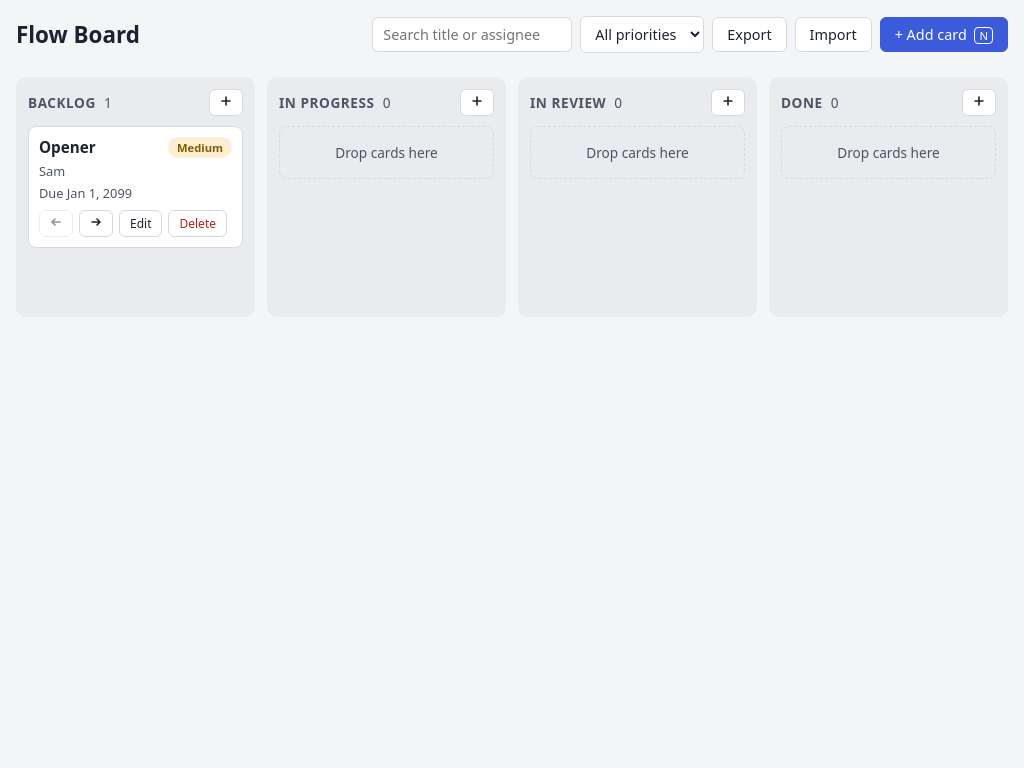
Test case: focus management (audit: WCAG 2.4.3, 2.1.2) › returns focus to the control that opened it when closed
Click the button named "Edit \"Opener\"". click: (141, 224)
box: x1=119 y1=210 x2=162 y2=237
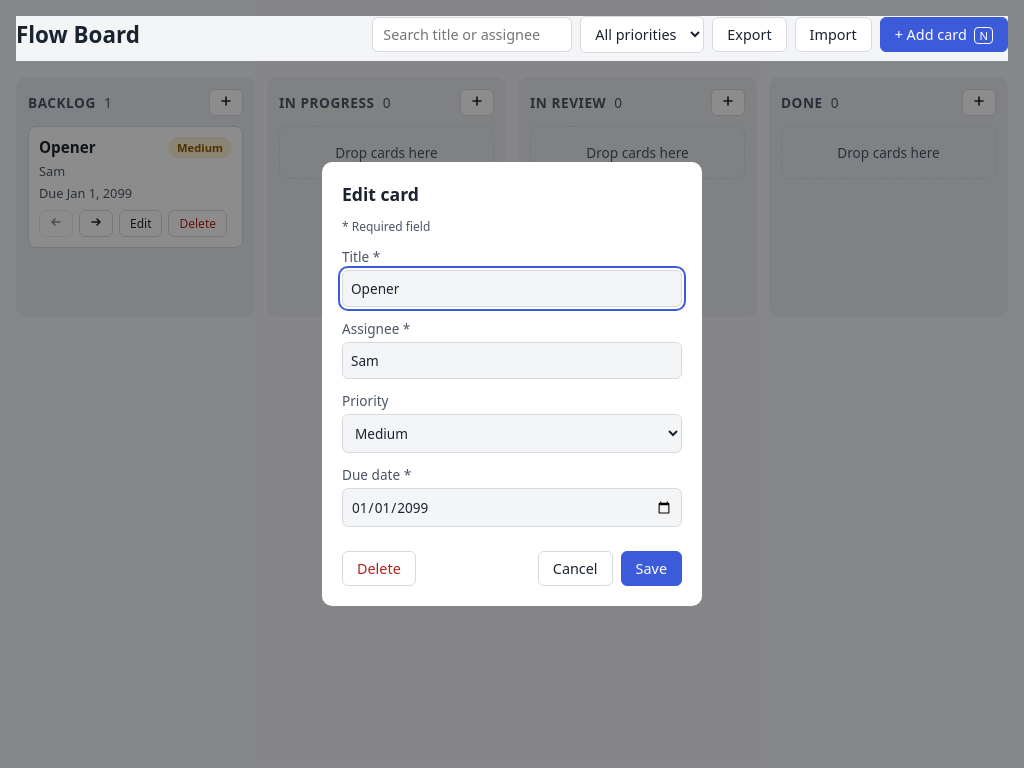
Press Escape
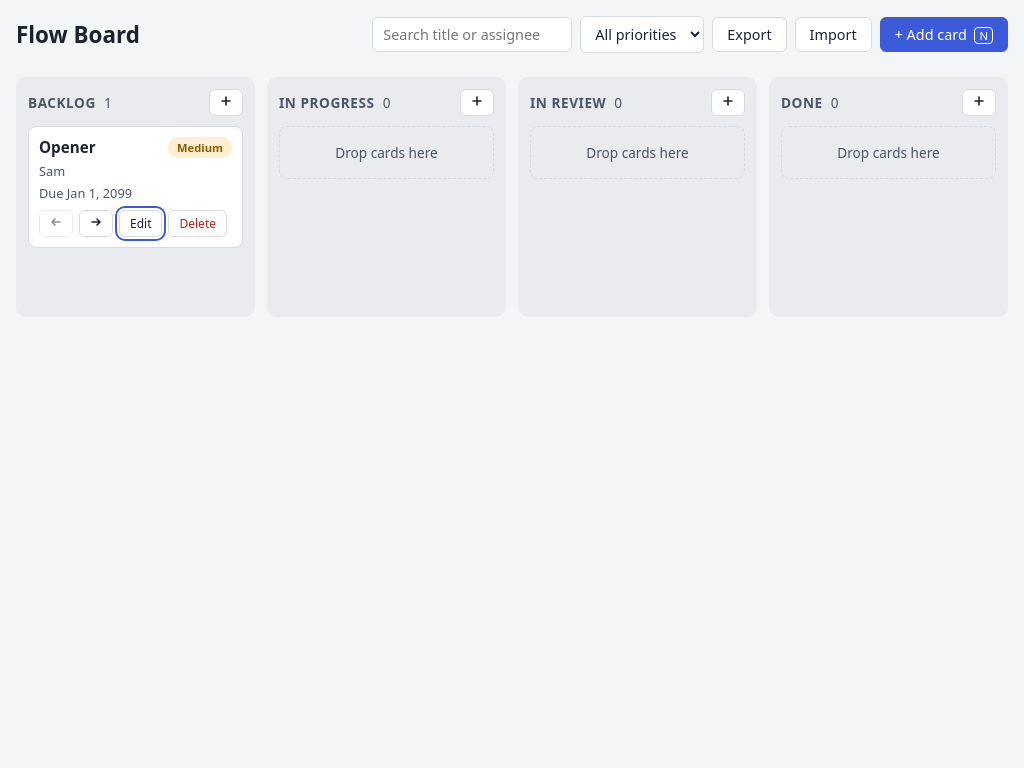
Check: the dialog is gone
